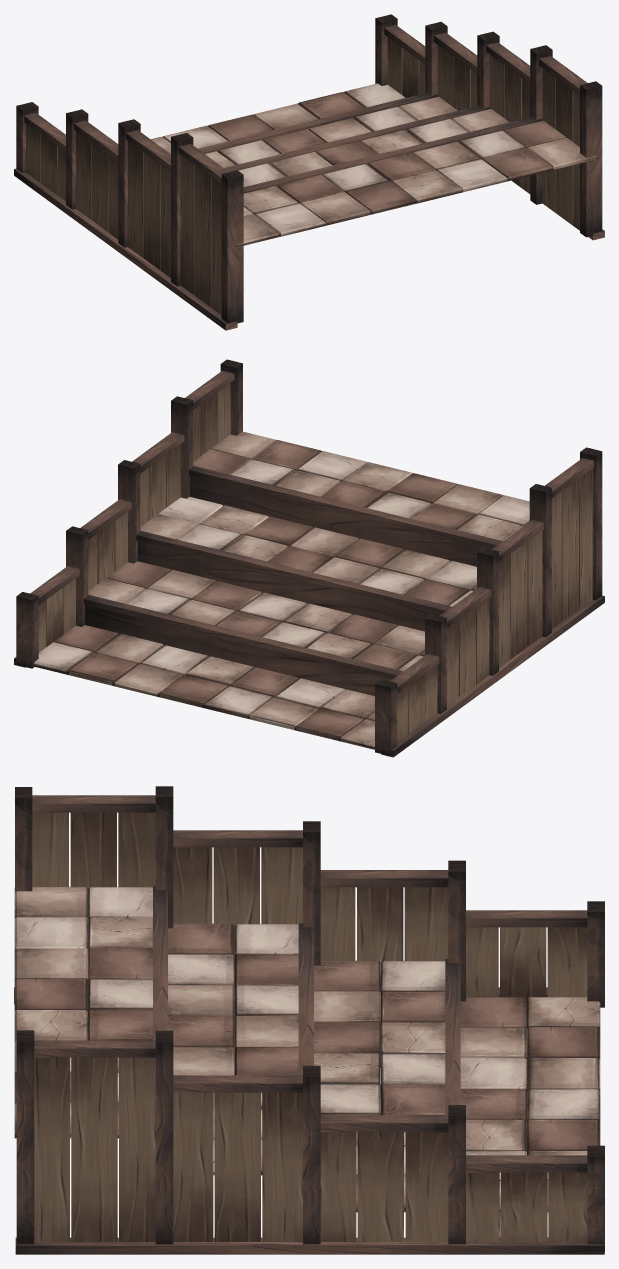
File: Floor_3_Steps_Straight_Walled.fbx
3 renders of one model, top to bottom at view 1: azimuth 30°, elevation 25°; view 2: azimuth 150°, elevation 25°; view 3: azimuth 270°, elevation 25°, orthographic. The views are drawn at different scales.
Visible parts, largest first — view 1: Stair_Wood_Wall11, Floor_Stairs_3_Steps; view 2: Floor_Stairs_3_Steps, Stair_Wood_Wall11; view 3: Stair_Wood_Wall11, Floor_Stairs_3_Steps.
Part boxes in pixels (bbox=[...]): Stair_Wood_Wall11: bbox=[14, 14, 604, 330]; Floor_Stairs_3_Steps: bbox=[151, 83, 598, 247]; Floor_Stairs_3_Steps: bbox=[34, 431, 529, 749]; Stair_Wood_Wall11: bbox=[14, 359, 604, 757]; Stair_Wood_Wall11: bbox=[14, 786, 604, 1254]; Floor_Stairs_3_Steps: bbox=[14, 885, 600, 1237].
Bounding box in the file's own units: 0.6275 × 0.24 × 0.6061.
